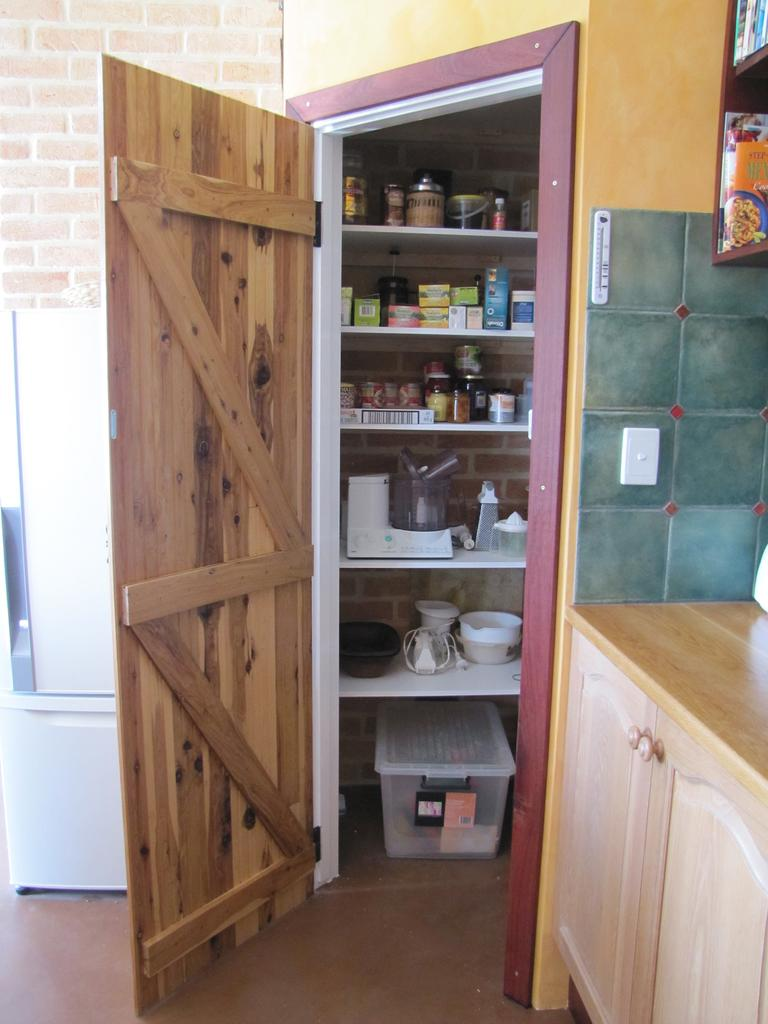cabinet_door: (642, 728, 740, 1024), (569, 660, 639, 993)
handle: (26, 702, 110, 738), (636, 732, 666, 778), (628, 717, 646, 755)
